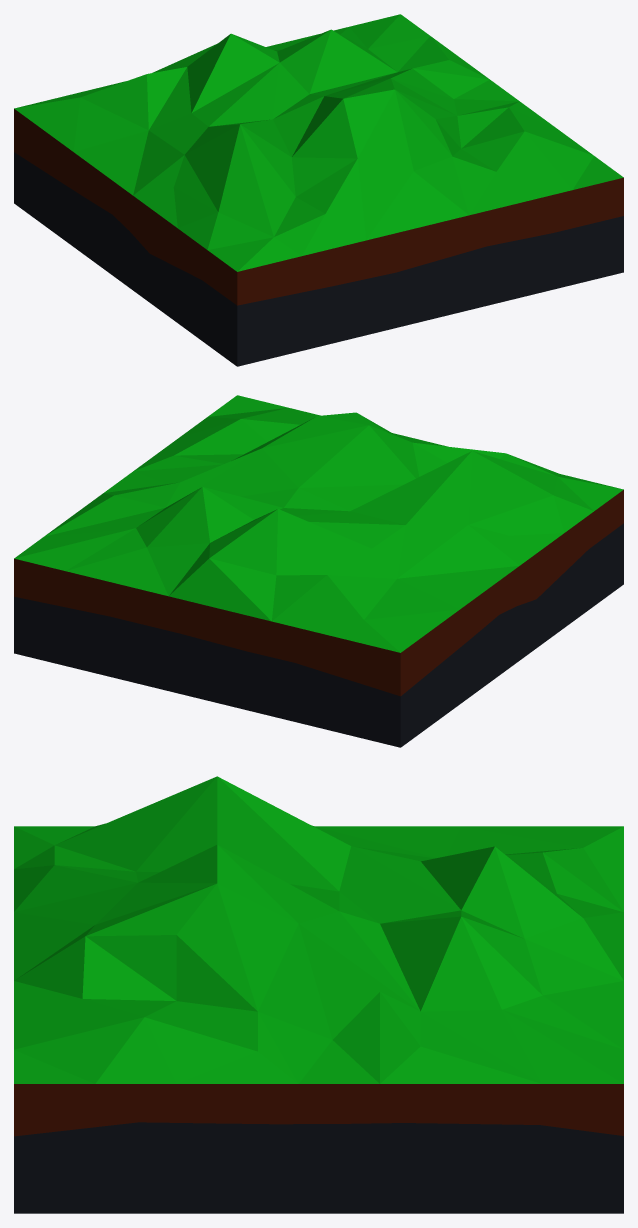
File: PRO_Ground_02.FBX
The picture shows the model from 3 angles, top to bottom: view 1: azimuth 30°, elevation 25°; view 2: azimuth 150°, elevation 25°; view 3: azimuth 270°, elevation 25°; orthographic projection. The views are drawn at different scales.
Visible parts, largest first — view 1: PRO_Ground_002; view 2: PRO_Ground_002; view 3: PRO_Ground_002.
Boxes of the visible parts, x1,y1,x2,y2 form: PRO_Ground_002: (14, 14, 623, 366); PRO_Ground_002: (14, 395, 623, 747); PRO_Ground_002: (14, 776, 623, 1213).
Bounding box in the file's own units: 128 × 53.63 × 128.
